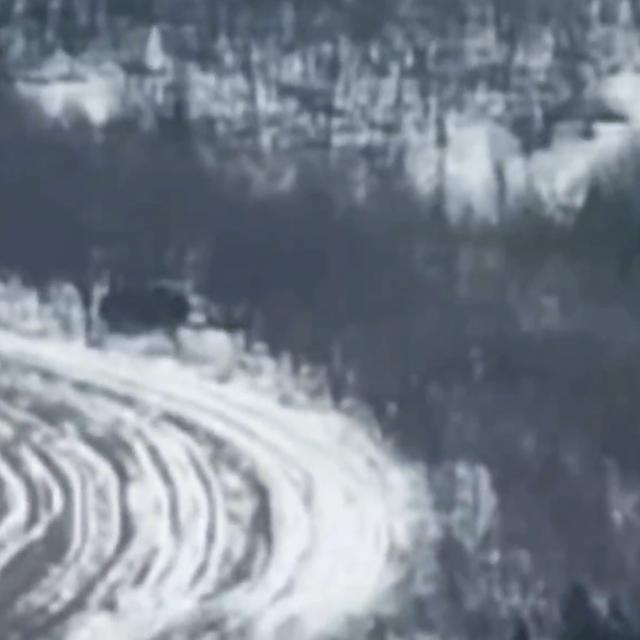vehicle: (98, 281, 191, 334)
